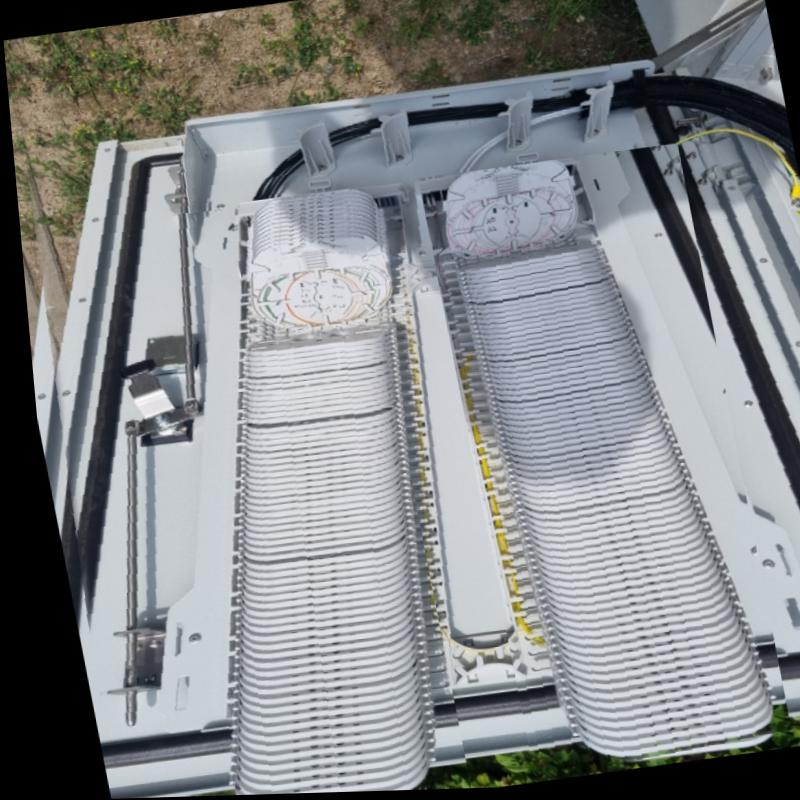NT-Gehause: (41, 0, 800, 799)
Spleiskassetten: (415, 158, 776, 775), (226, 193, 434, 796)
